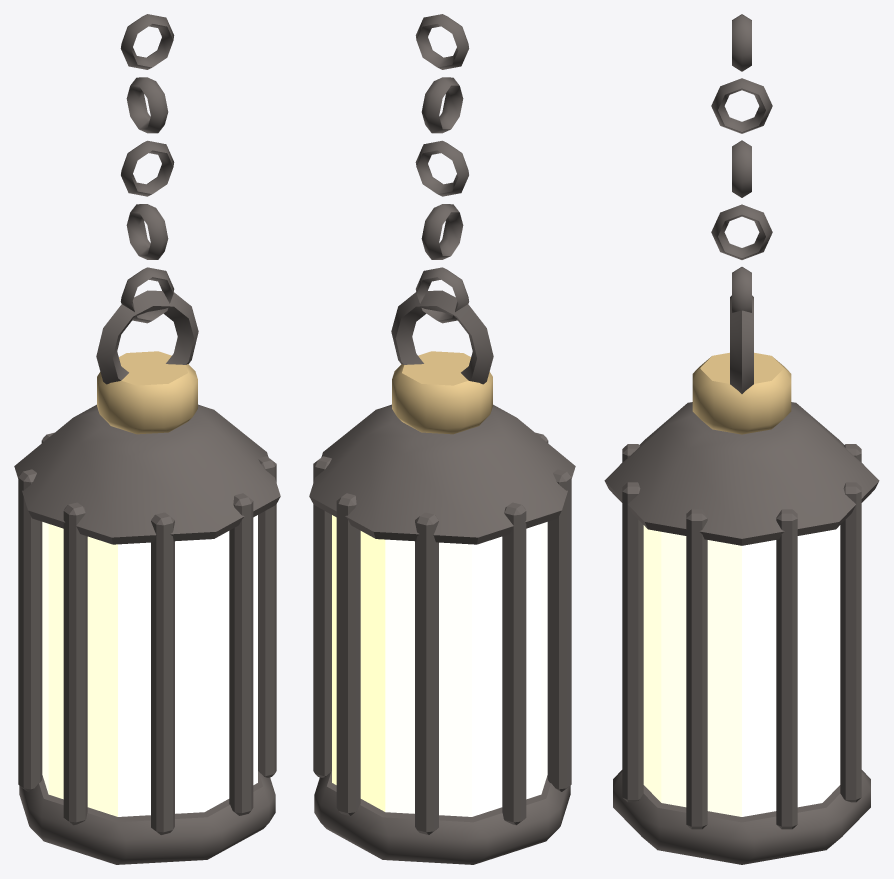
The model's file is lantern.glb.
The picture shows the model from 3 angles, left to right: view 1: azimuth 30°, elevation 25°; view 2: azimuth 150°, elevation 25°; view 3: azimuth 270°, elevation 25°; orthographic projection.
Visible parts, largest first — view 1: lantern; view 2: lantern; view 3: lantern.
Part boxes in pixels (x1=…): lantern: x1=14, y1=14, x2=280, y2=864; lantern: x1=309, y1=14, x2=575, y2=864; lantern: x1=604, y1=14, x2=879, y2=864.
Size of the model in its own units: 0.2053 by 0.6585 by 0.2053.
